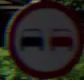No overtake: (9, 4, 78, 73)
